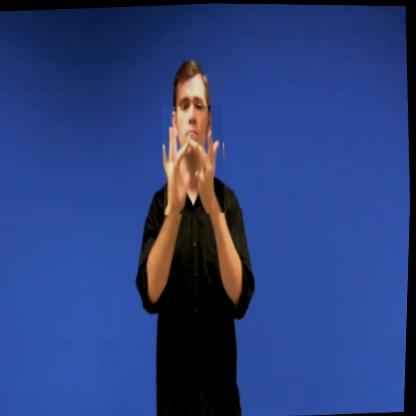Internet: (160, 103, 228, 215)
